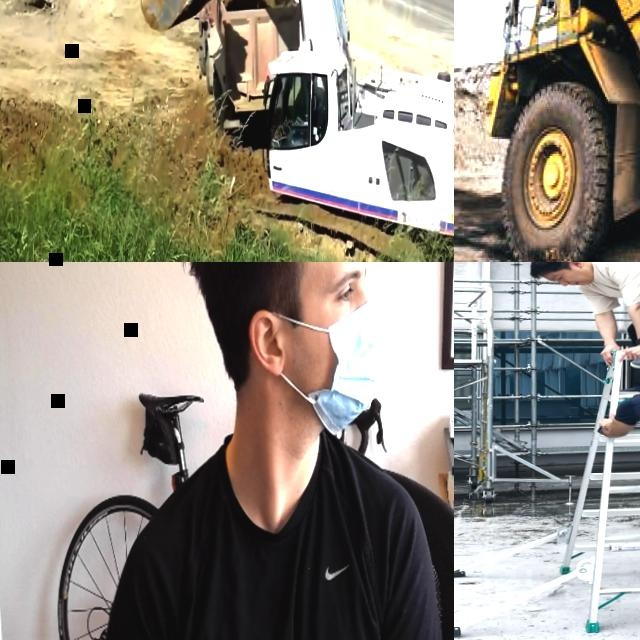Mask: (267, 302, 383, 439)
NO-Hardhat: (529, 262, 573, 279)
NO-Mask: (570, 269, 592, 287)
NO-Safety Vest: (158, 448, 384, 640), (591, 262, 640, 294)
Person: (94, 262, 451, 640), (595, 343, 640, 640), (527, 262, 640, 370), (293, 84, 320, 143)
machinery: (138, 0, 454, 262), (476, 0, 640, 262), (198, 0, 302, 148)
